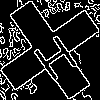H: (25, 25, 81, 84)
